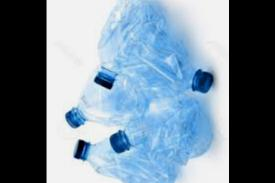Plastic: (107, 94, 215, 166), (92, 0, 171, 94), (120, 27, 216, 104), (59, 129, 184, 182), (64, 59, 148, 134)
